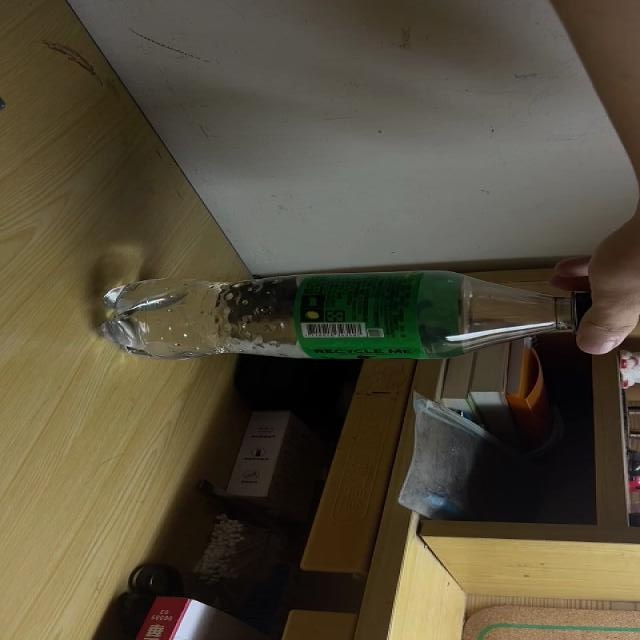Sprite: (104, 269, 613, 362)
